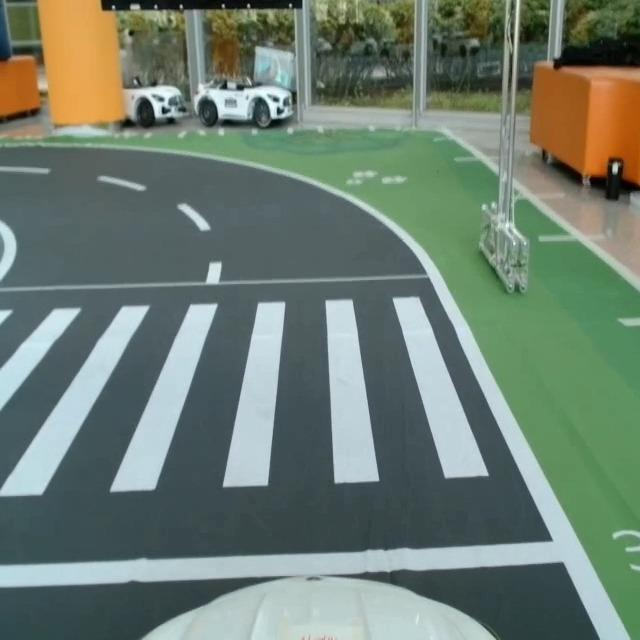traffic-light: (97, 0, 310, 13)
